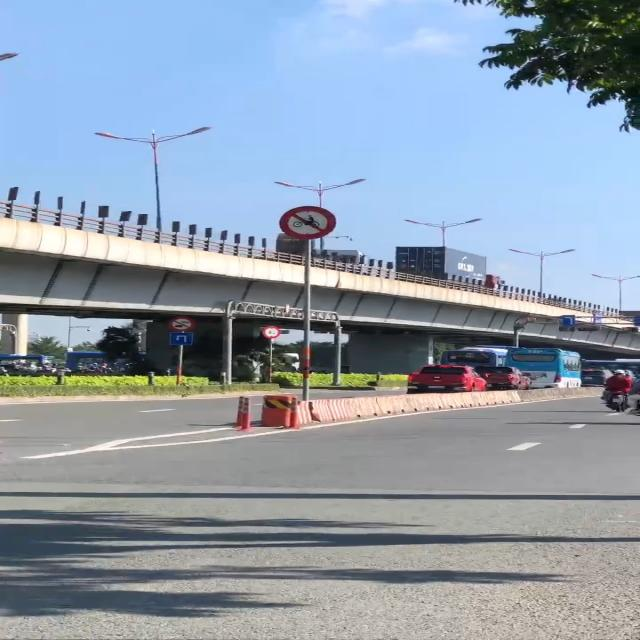Bien bao cam xe may: (272, 198, 341, 244)
